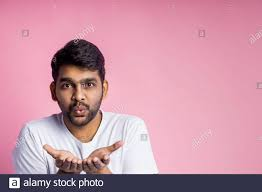Indian_Male: (50, 49, 112, 127)
